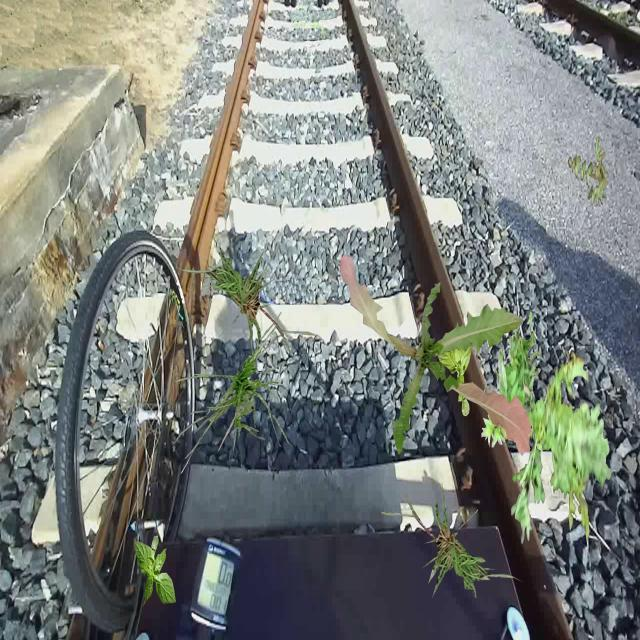Plant: (339, 254, 532, 456), (487, 349, 612, 545), (173, 312, 292, 476), (172, 247, 316, 366), (381, 481, 524, 600), (481, 312, 546, 456), (568, 135, 610, 206), (135, 535, 176, 606), (437, 333, 472, 416)
